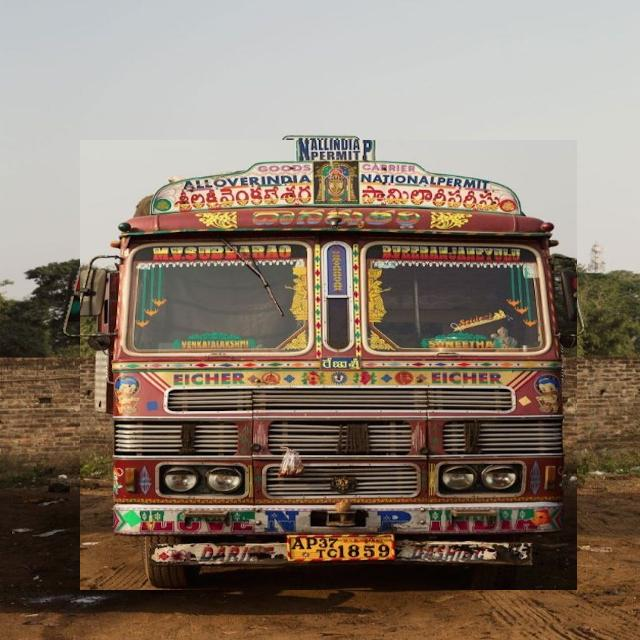truck: (80, 140, 577, 590)
